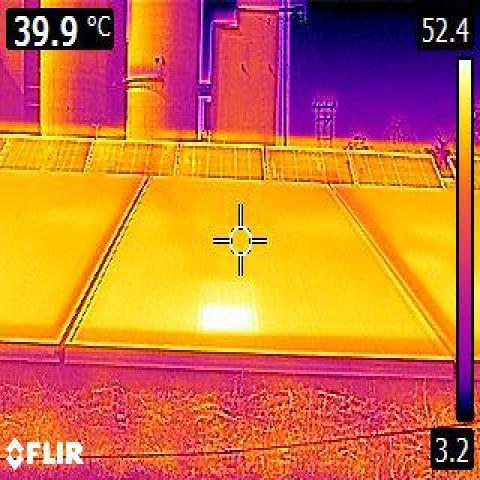fault: (200, 302, 250, 334)
